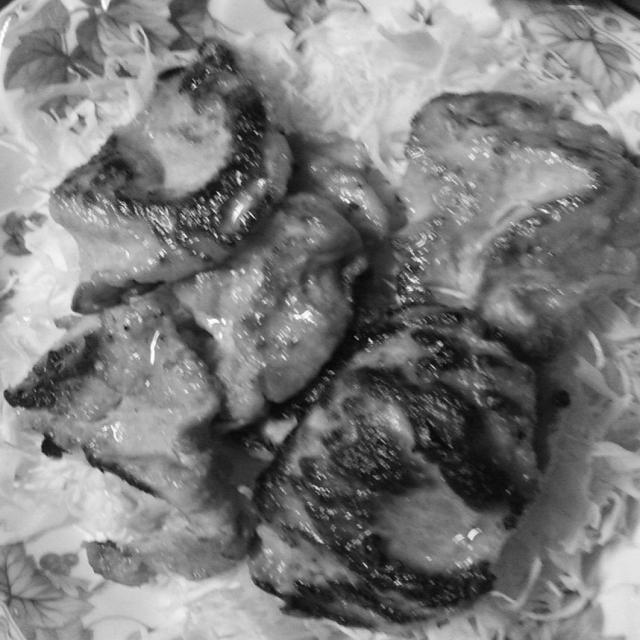OK cooked pork,: (36, 39, 298, 319), (385, 85, 640, 356), (172, 131, 377, 435), (7, 283, 248, 517)
overcooked pork: (235, 296, 588, 640)
